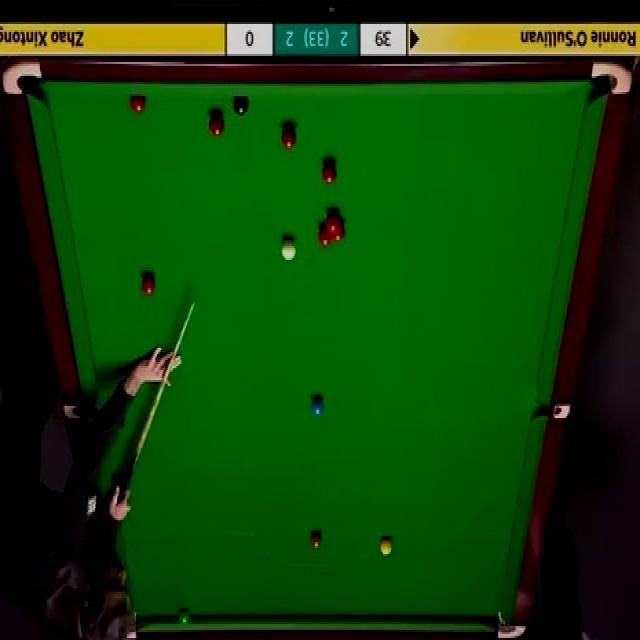black-ball: (233, 97, 250, 117)
blue-ball: (310, 394, 325, 416)
brown-ball: (309, 529, 323, 552)
green-ball: (177, 610, 190, 626)
red-ball: (281, 123, 297, 151), (208, 112, 225, 138), (321, 160, 336, 185), (141, 274, 155, 296), (129, 95, 145, 114), (326, 210, 339, 232), (318, 225, 331, 247), (332, 228, 344, 241)
white-ball: (281, 237, 297, 261)
yellow-ball: (380, 537, 393, 557)
